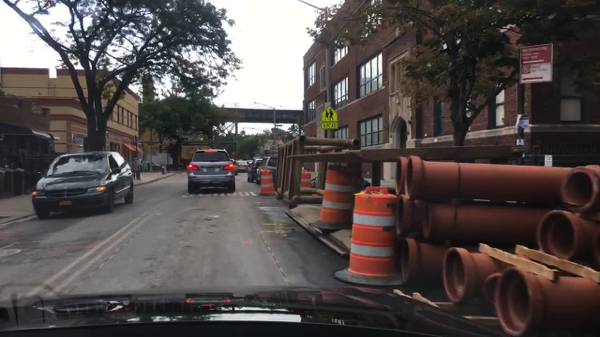car: (31, 150, 135, 219), (186, 149, 235, 195), (255, 157, 278, 184), (246, 158, 263, 183), (236, 160, 250, 173), (230, 158, 240, 176), (244, 159, 252, 165)
person: (129, 157, 141, 181)
traffic light: (198, 133, 204, 141)
traffic sign: (519, 44, 554, 84), (320, 106, 338, 122), (178, 132, 197, 140), (320, 121, 338, 129), (275, 136, 283, 145), (264, 143, 271, 151)
